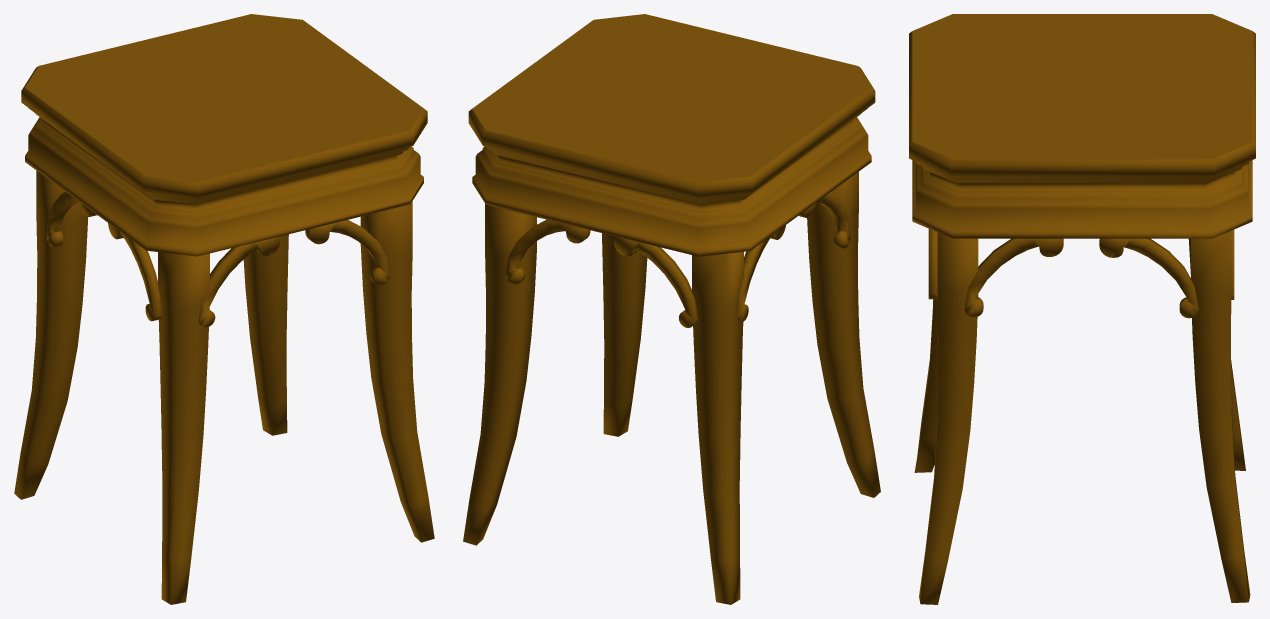
File: Table1 fbx.fbx
The picture shows the model from 3 angles, left to right: view 1: azimuth 30°, elevation 25°; view 2: azimuth 150°, elevation 25°; view 3: azimuth 270°, elevation 25°; orthographic projection. The views are drawn at different scales.
Visible parts, largest first — view 1: RealDWGPart; view 2: RealDWGPart; view 3: RealDWGPart.
Boxes of the visible parts, left/top/right/bottom form: RealDWGPart: left=14, top=14, right=434, bottom=604; RealDWGPart: left=463, top=14, right=880, bottom=604; RealDWGPart: left=909, top=14, right=1255, bottom=604.
Bounding box in the file's own units: 25.38 × 35.75 × 25.13.
